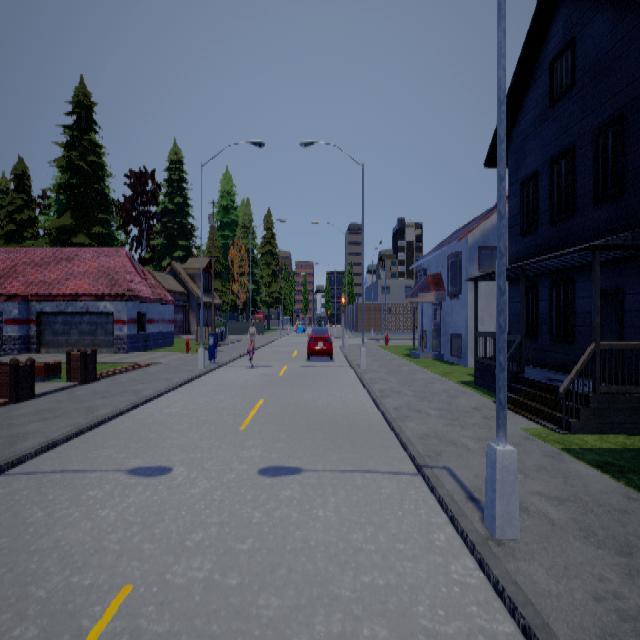bike: (242, 318, 260, 371)
red_light: (341, 294, 344, 312)
vehicle: (305, 318, 333, 359)
